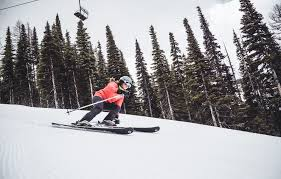skier: (49, 74, 162, 138)
